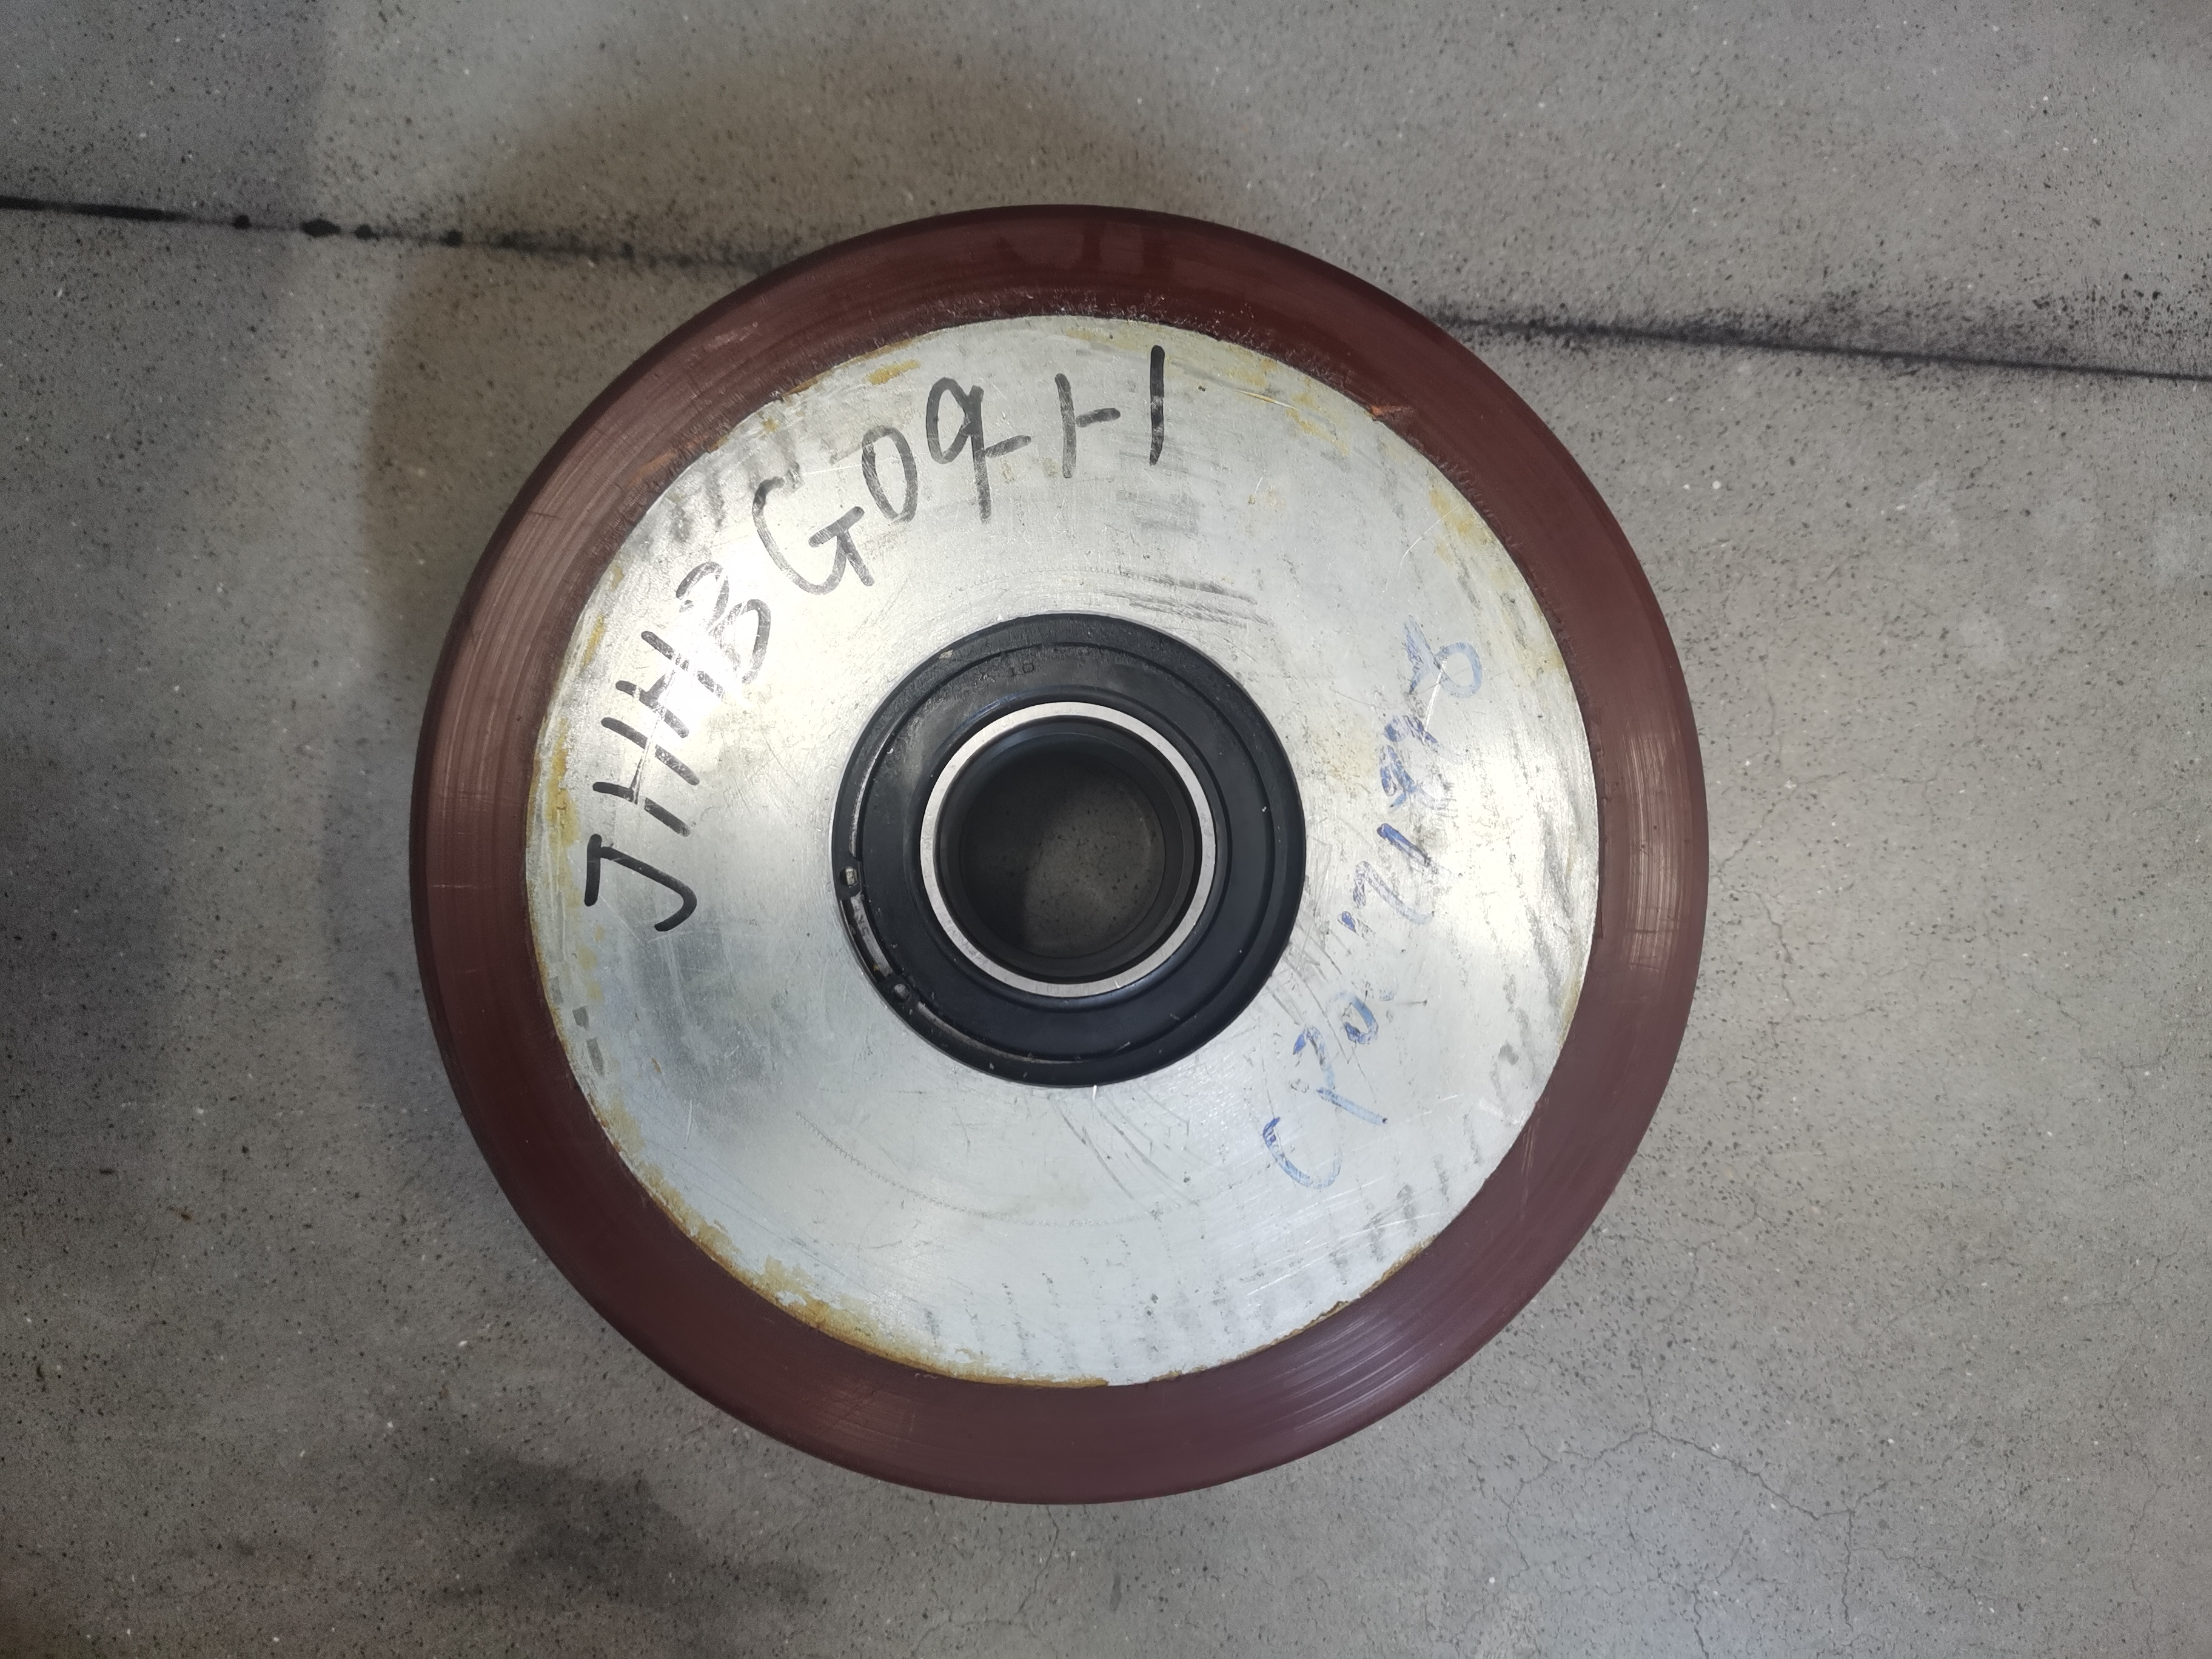good_wheel: (380, 192, 1757, 1530)
